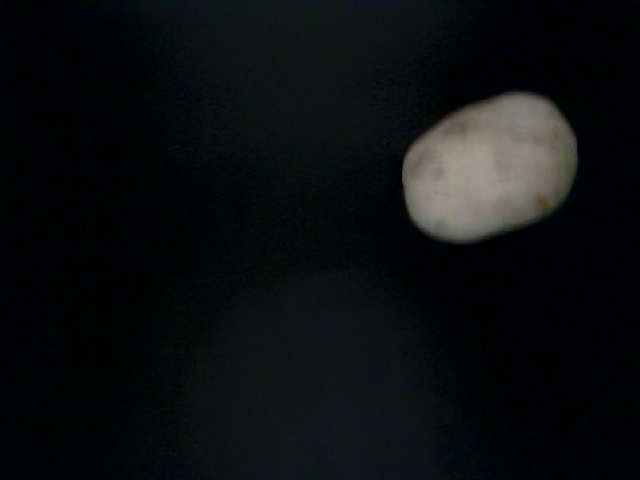QTLJ: (224, 47, 406, 309)
